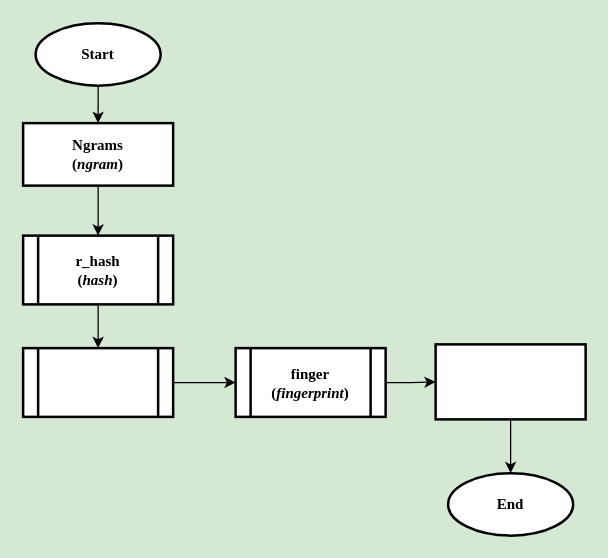
This 608x558 diagram has some shape labels left out. Here are the shapes that lost their labels. From the top down, the centre of each, then its label:
point (97, 382): wgram ( window )
point (510, 381): Simpan fingerprint
